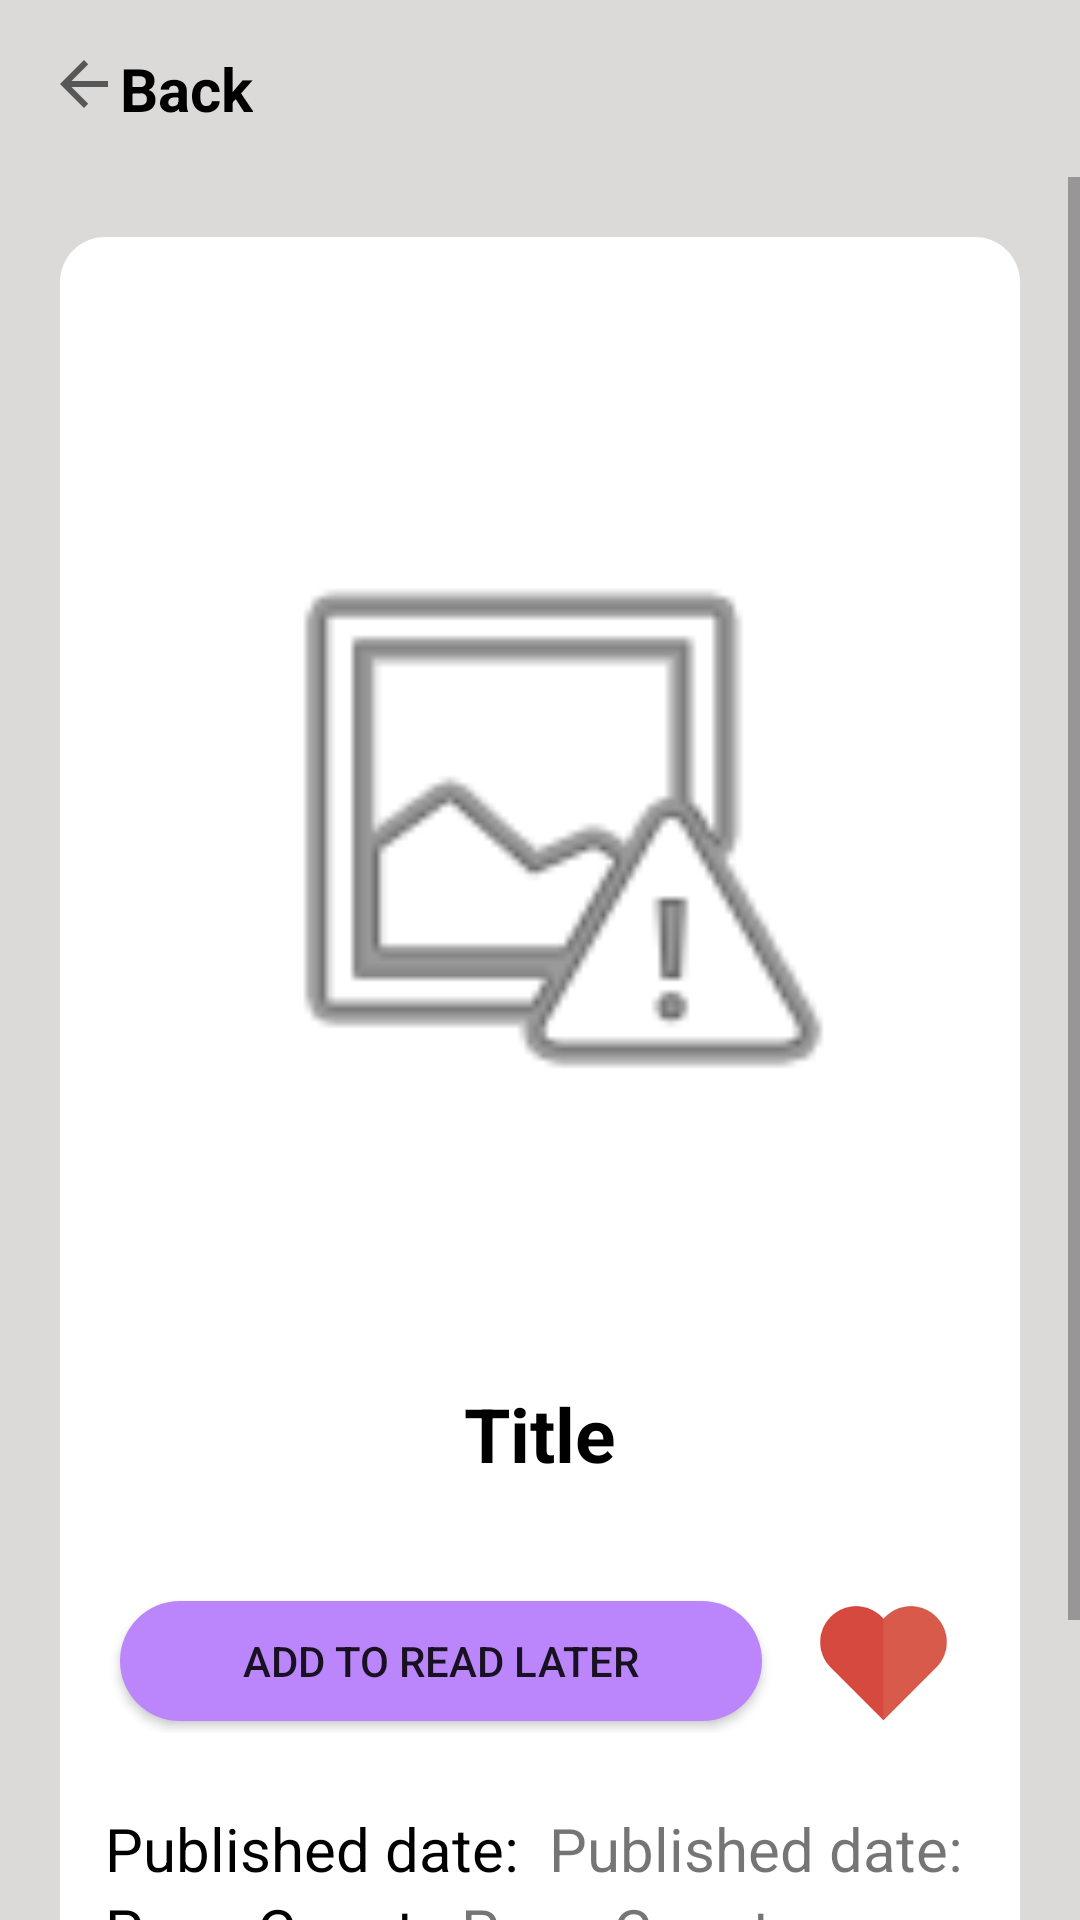

Where to tap for icons on this 1080 x 1920 app screen, as (x,y):
heart: (883,1663)
